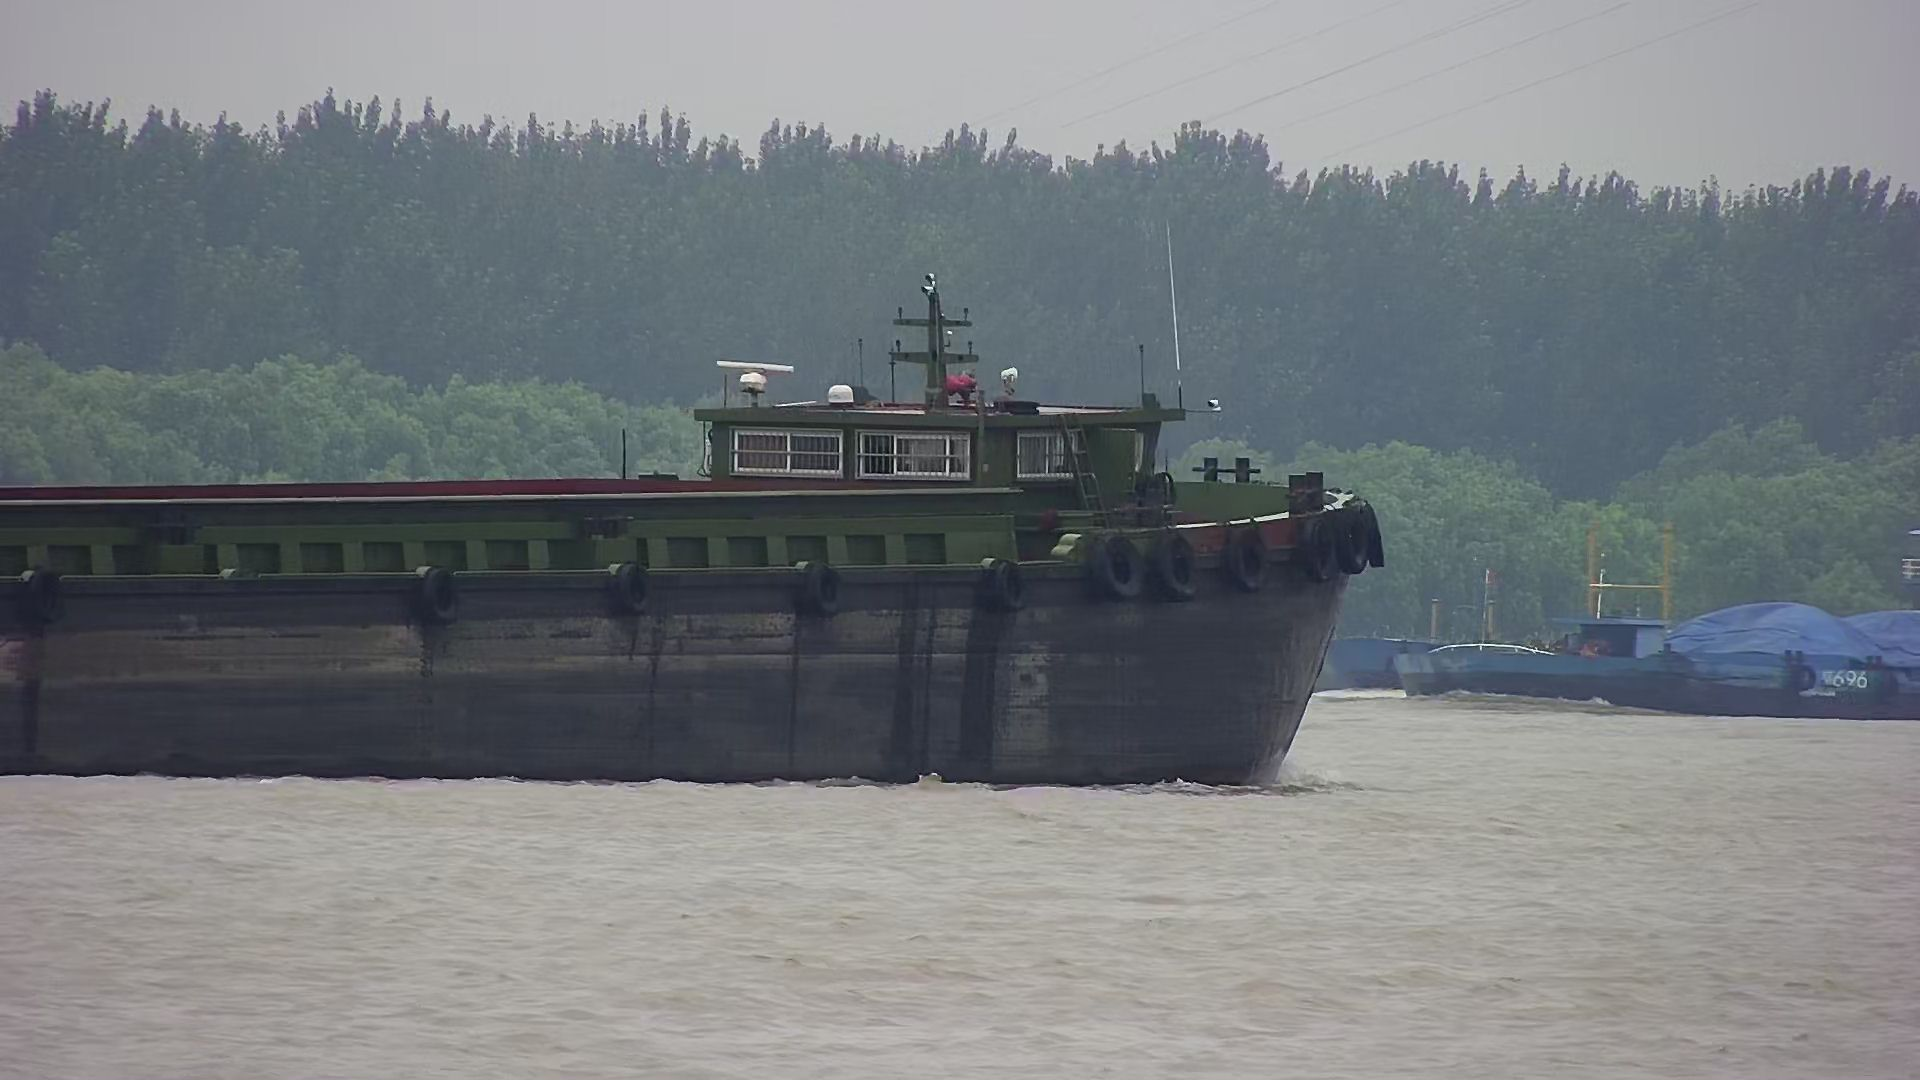ship: (5, 287, 1391, 804), (1324, 517, 1920, 732), (1424, 578, 1920, 740)
